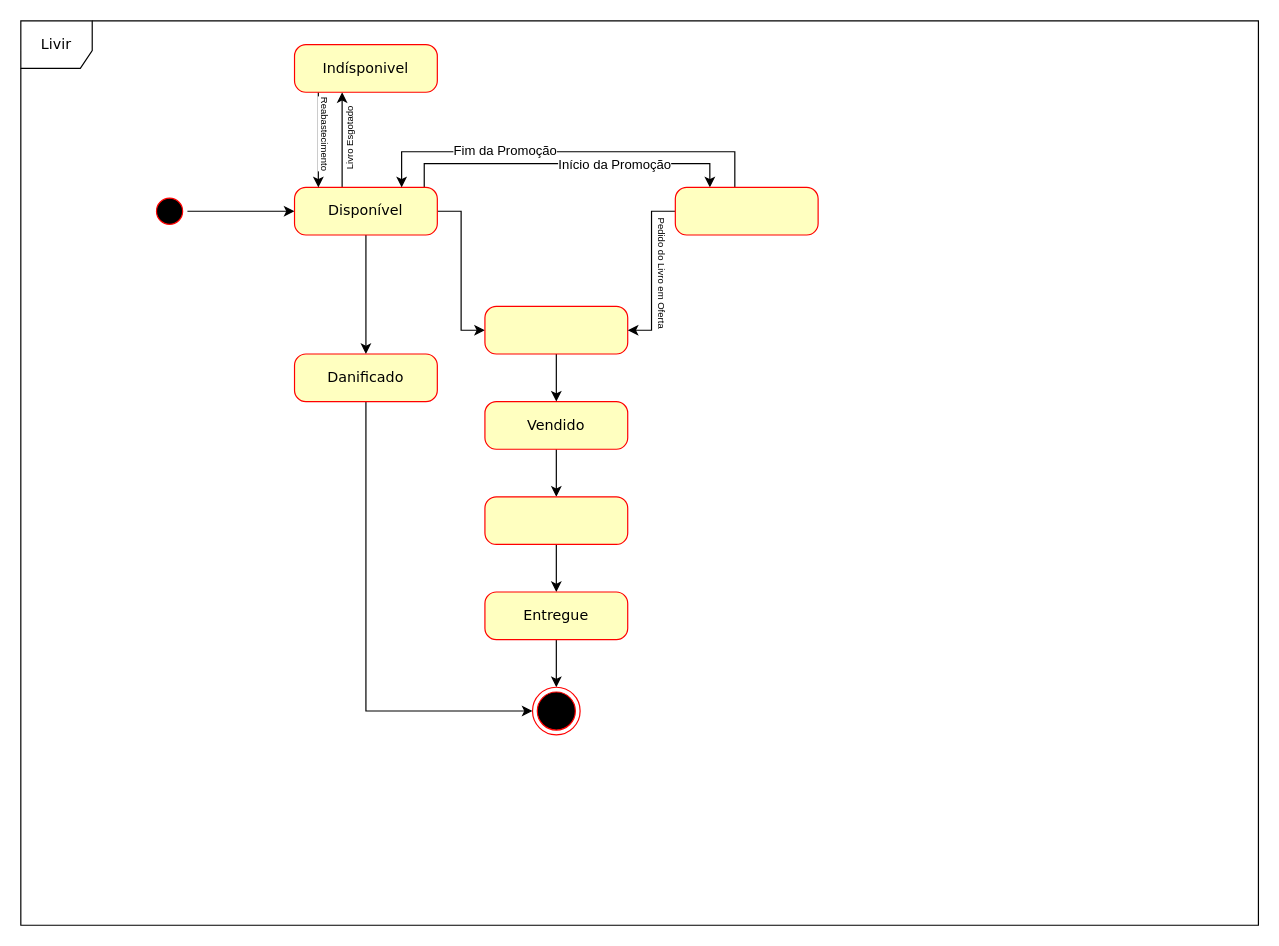
Image size: 1279x946. Some labels were removed from this diagram. Here are the shapes that lost their labels. From the top down, the box of each, then its label:
(674, 186, 818, 235): Em Oferta
(484, 305, 628, 354): Reservado
(484, 496, 628, 544): Em Trânsito
